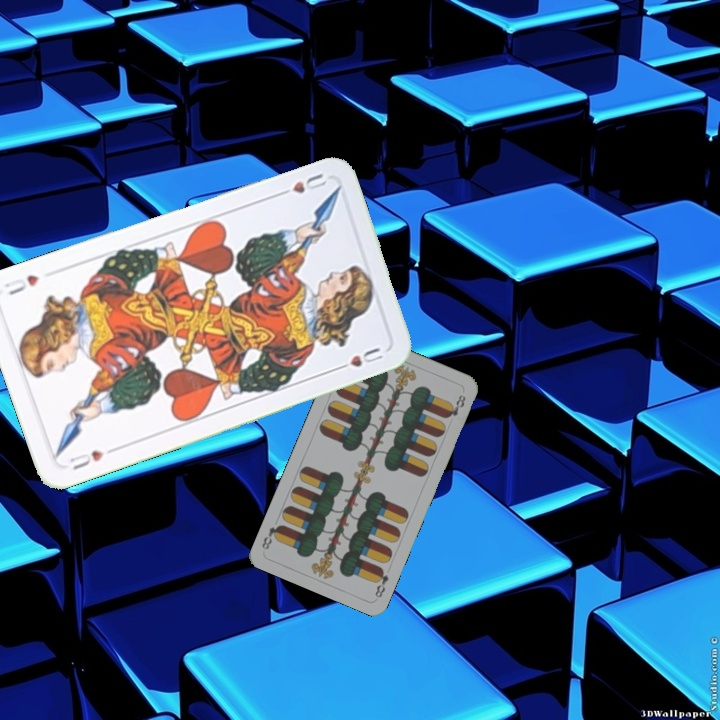E8: (371, 564, 391, 600)
HU: (272, 169, 329, 199), (64, 446, 107, 473)
